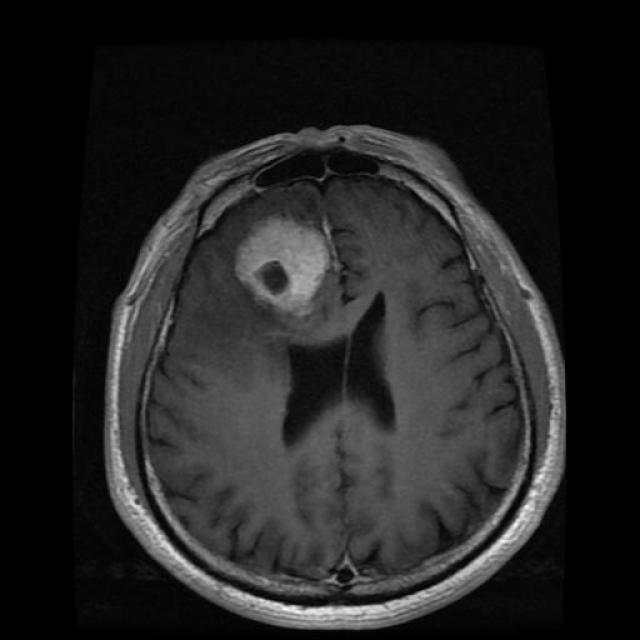meningioma: (234, 216, 329, 310)
